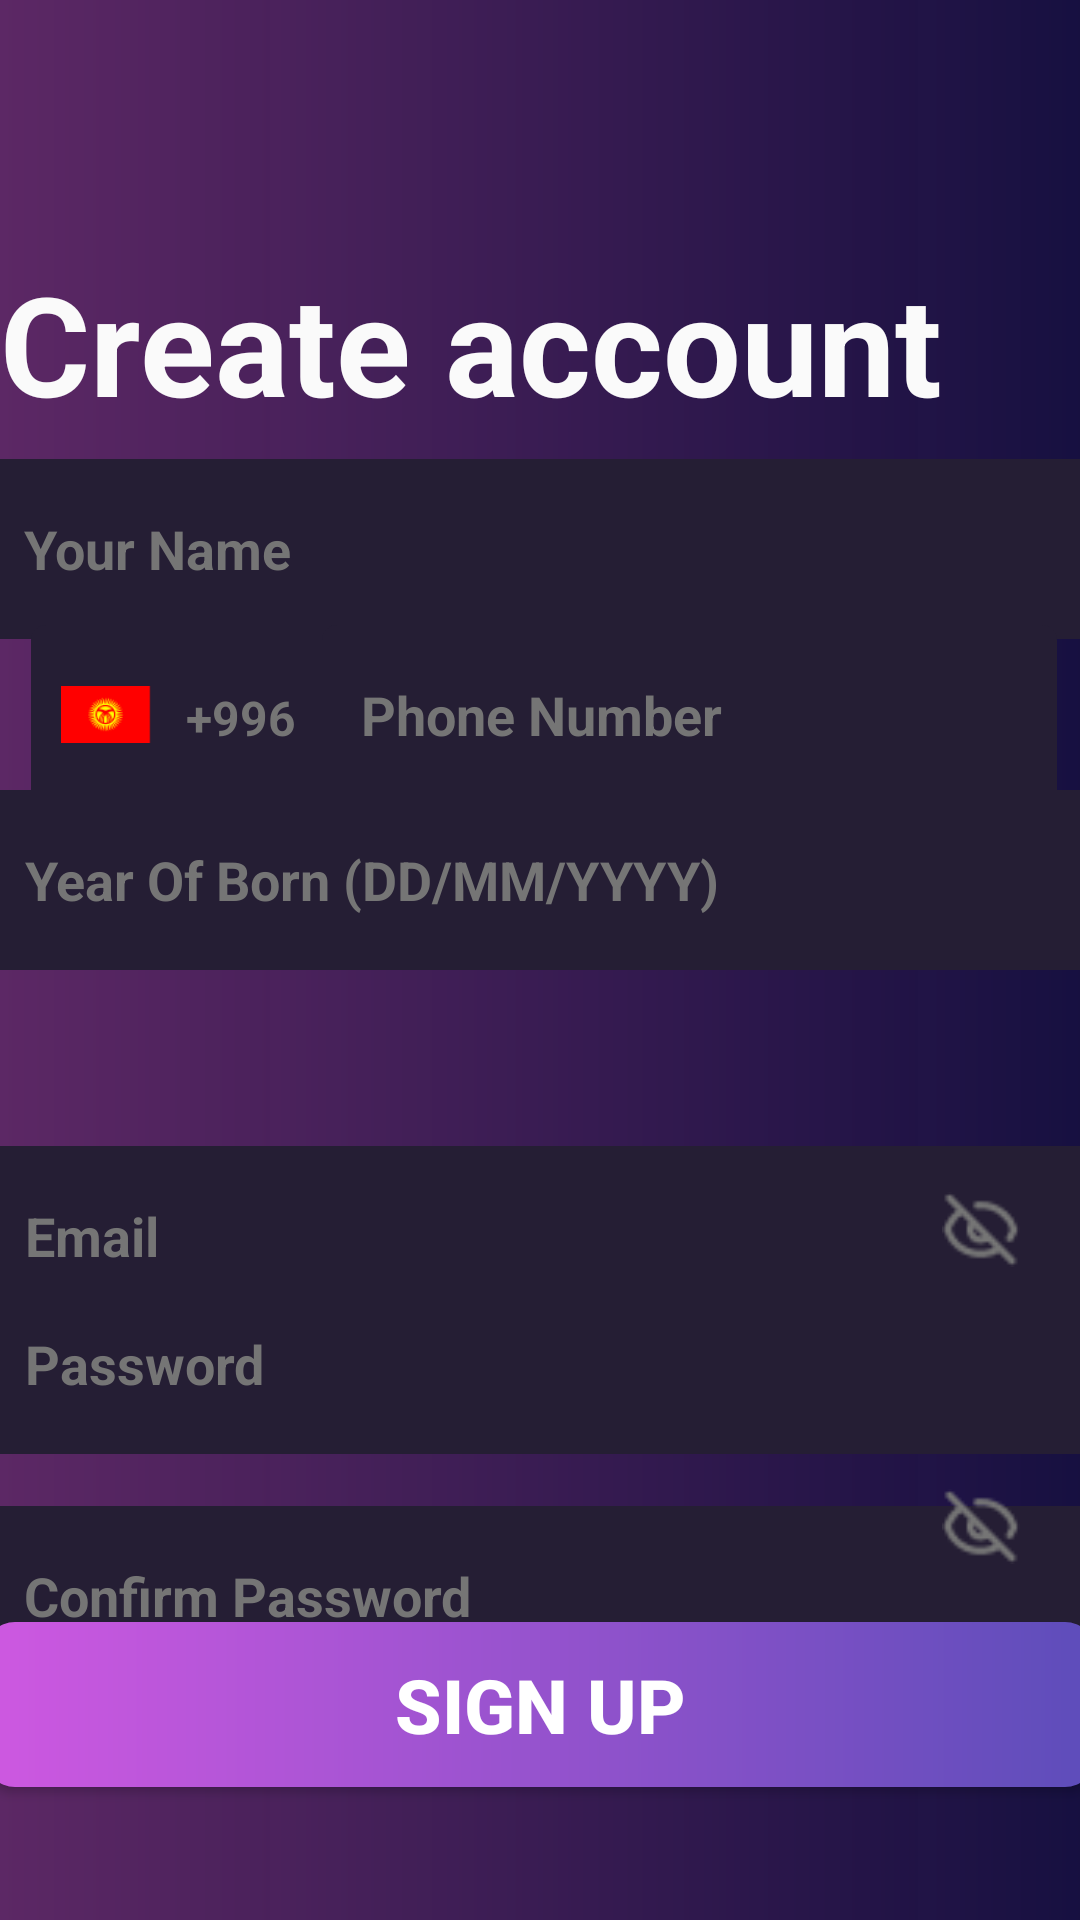

Named icons in this screenshot (1080 x 1920) and their bounding boxes, (x1, y1, x2, y2):
kgz daniyar: (61, 686, 151, 743)
